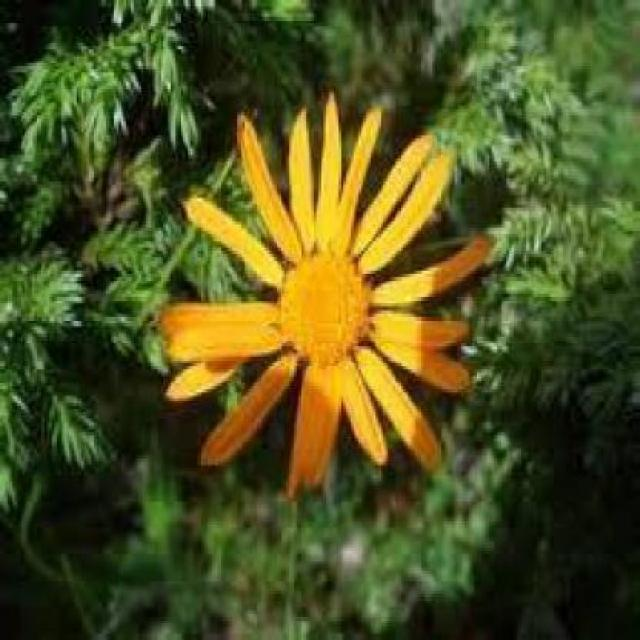flower: (160, 107, 492, 487)
